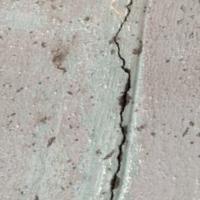crack: (95, 1, 153, 199)
